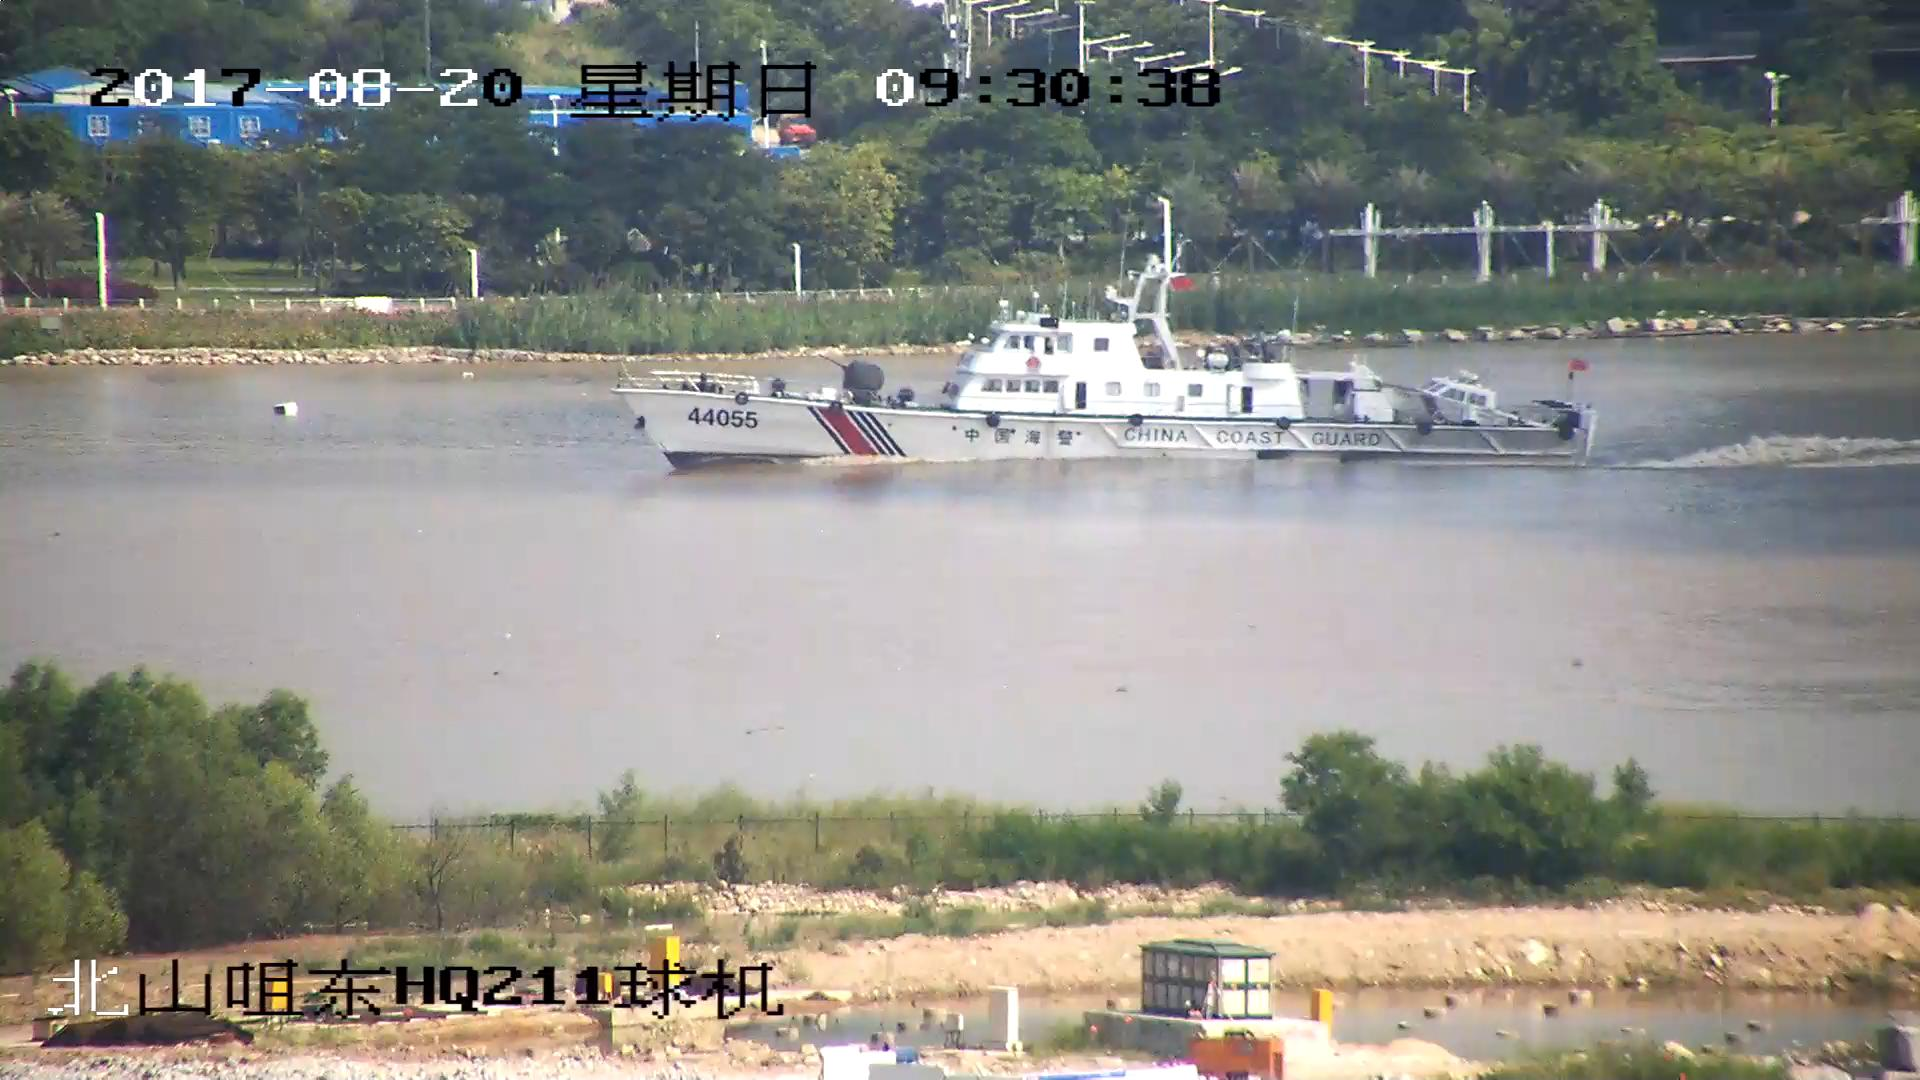passenger ship: (616, 250, 1590, 478)
